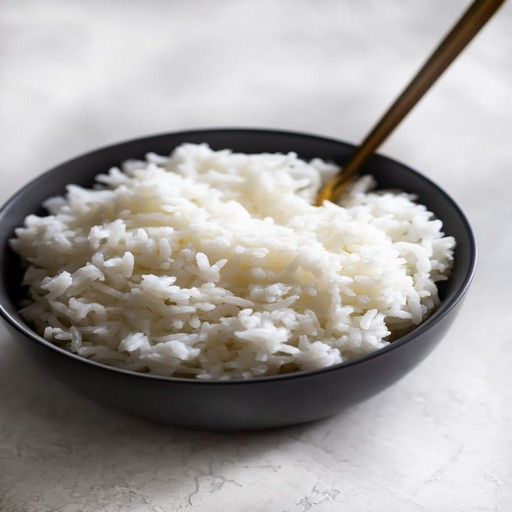rice: (88, 199, 384, 324)
